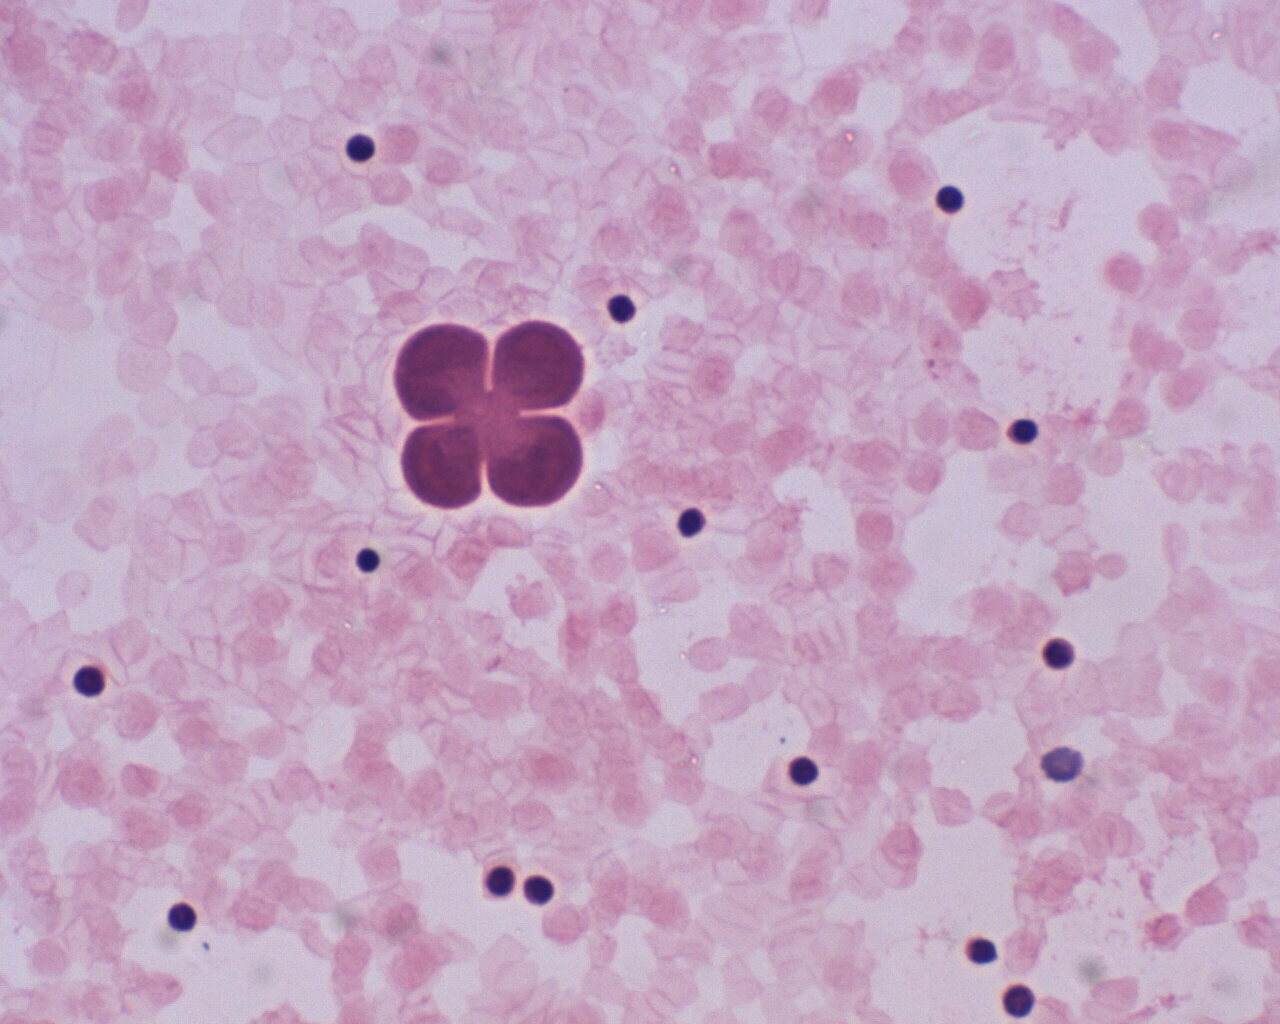ab: (482, 411, 595, 514), (385, 315, 495, 418), (486, 315, 594, 418), (391, 422, 491, 510)
lymph: (64, 661, 118, 704), (1040, 629, 1085, 676), (341, 126, 381, 172), (165, 897, 207, 939), (783, 752, 828, 792), (350, 543, 394, 583), (606, 286, 642, 328), (521, 868, 555, 910), (935, 181, 971, 219)
